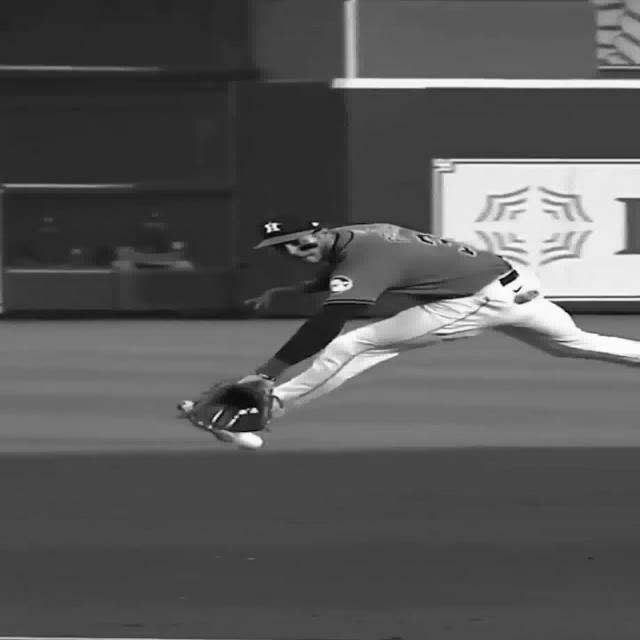baseball: (232, 432, 263, 450)
baseball_glove: (179, 377, 282, 433)
shoe: (176, 400, 264, 450)
